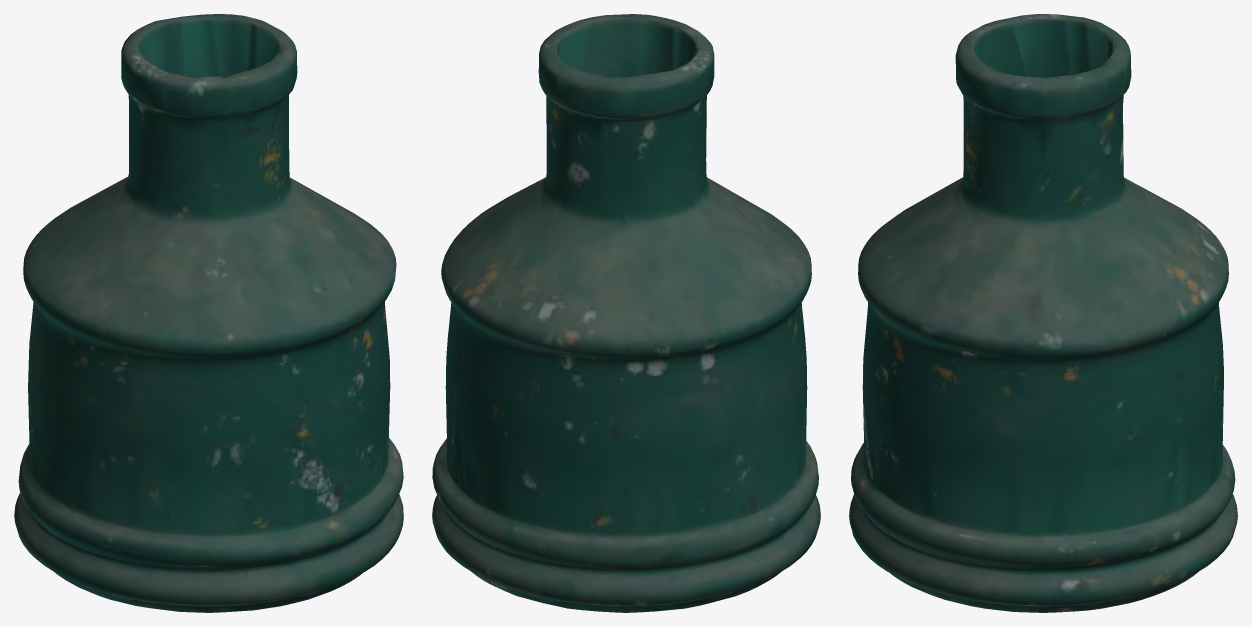
File: SR-container_bottle_glass_a01.glb
The picture shows the model from 3 angles, left to right: view 1: azimuth 30°, elevation 25°; view 2: azimuth 150°, elevation 25°; view 3: azimuth 270°, elevation 25°; orthographic projection.
Parts seen in each view (by area): view 1: bottle_01_mesh_00; view 2: bottle_01_mesh_00; view 3: bottle_01_mesh_00.
Part boxes in pixels (left/top/right/bottom): bottle_01_mesh_00: left=14, top=14, right=403, bottom=612; bottle_01_mesh_00: left=432, top=14, right=820, bottom=612; bottle_01_mesh_00: left=849, top=14, right=1237, bottom=612.
Size of the model in its own units: 0.1757 by 0.2479 by 0.1757.
Materials: 1 (1 with a texture image).
